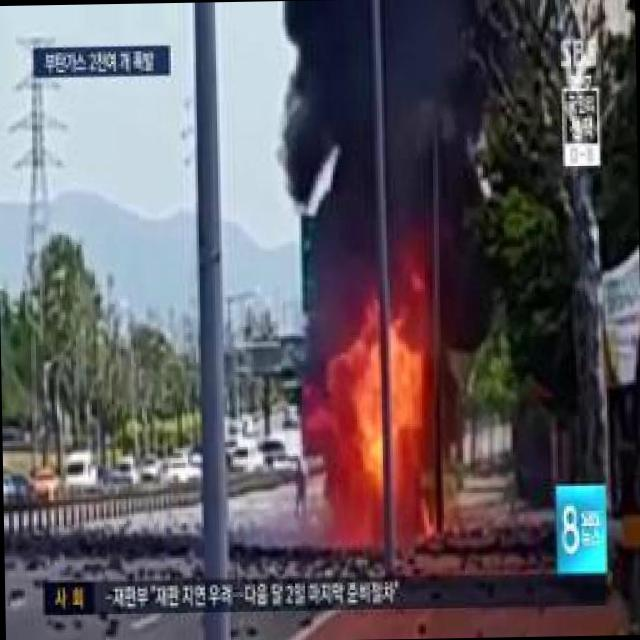Fire: (328, 348, 440, 559)
Smoke: (269, 0, 511, 288)
